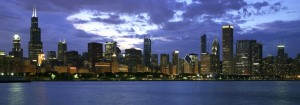willis: (26, 3, 45, 58)
